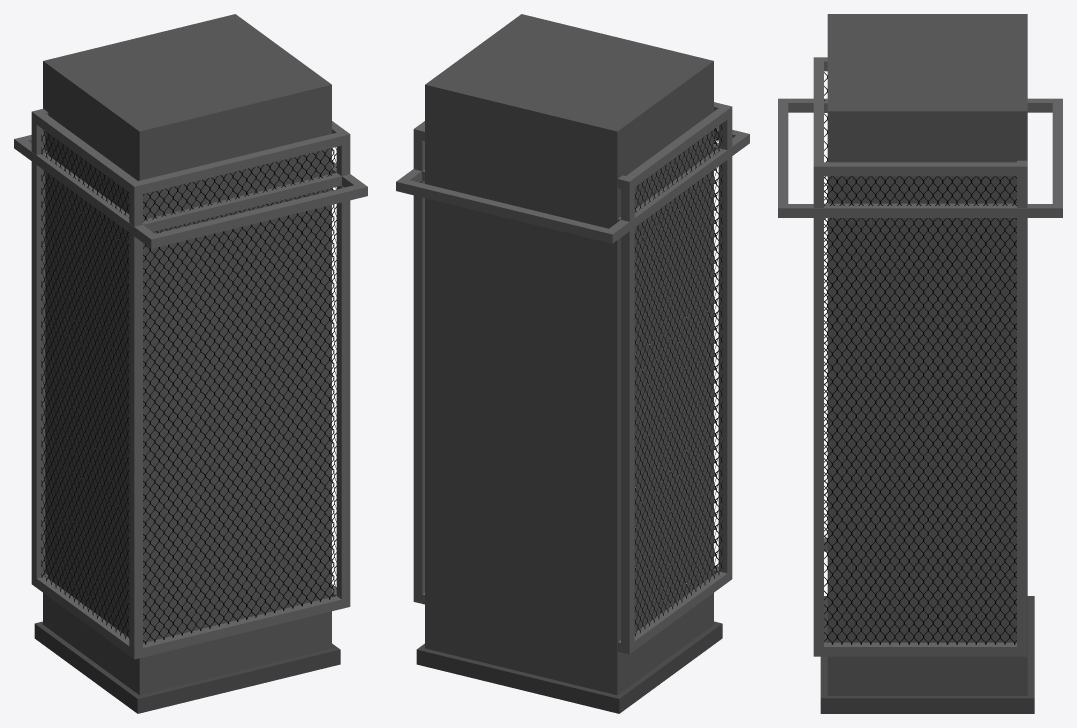
Rendered from Pillar 2.fbx.
The picture shows the model from 3 angles, left to right: view 1: azimuth 30°, elevation 25°; view 2: azimuth 150°, elevation 25°; view 3: azimuth 270°, elevation 25°; orthographic projection. The views are drawn at different scales.
Visible parts, largest first — view 1: Cube.011, Cube.014, Plane.010, Plane.009, Cube.015, Cube.013; view 2: Cube.011, Cube.014, Plane.009, Cube.013, Cube.015; view 3: Cube.011, Plane.009, Cube.014, Cube.015, Cube.013.
Boxes of the visible parts, x1,y1,x2,y2 form: Cube.011: (43,14,331,695); Cube.014: (31,108,350,659); Plane.010: (45,138,334,644); Plane.009: (41,129,336,638); Cube.015: (14,135,367,248); Cube.013: (34,621,340,713); Cube.011: (425,14,713,695); Cube.014: (413,102,732,654); Plane.009: (634,123,722,636); Cube.013: (416,621,722,713); Cube.015: (396,126,749,243); Cube.011: (827,14,1027,695); Plane.009: (824,72,1016,644); Cube.014: (813,57,1027,656); Cube.015: (778,98,1062,217); Cube.013: (820,596,1034,713).
Bounding box in the file's own units: 369 × 942 × 405.
